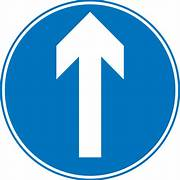forward: (2, 1, 180, 180)
